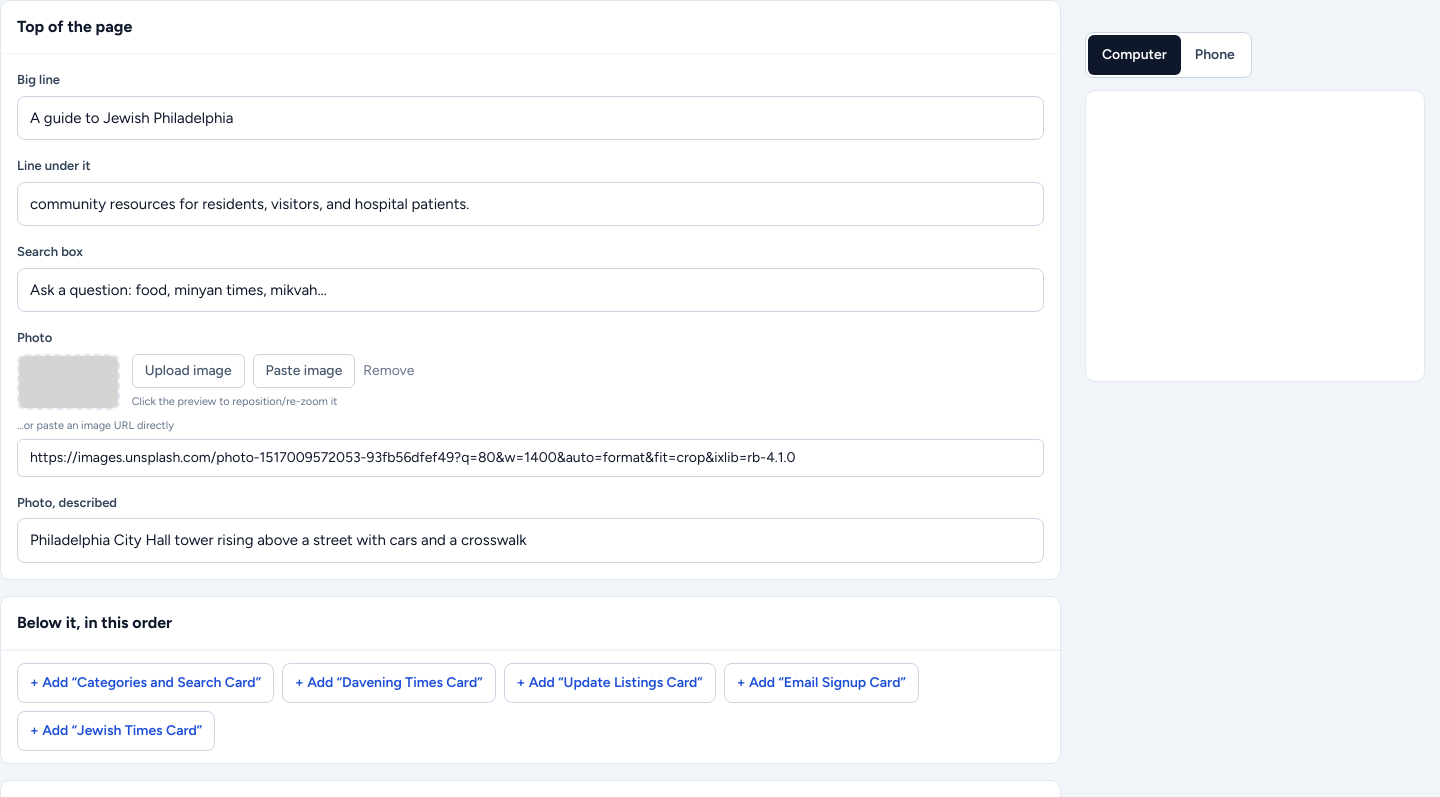
SiteSettingsEditor — Home page › has no Save bar until something changes, then says how much
Expected: the element named "Preview" is shown, left=1085, top=32, right=1425, bottom=382
Expected: the element "Save" is not shown
In the field labelled "Search box": (530, 290) left=17, top=268, right=1044, bottom=312, type "!"
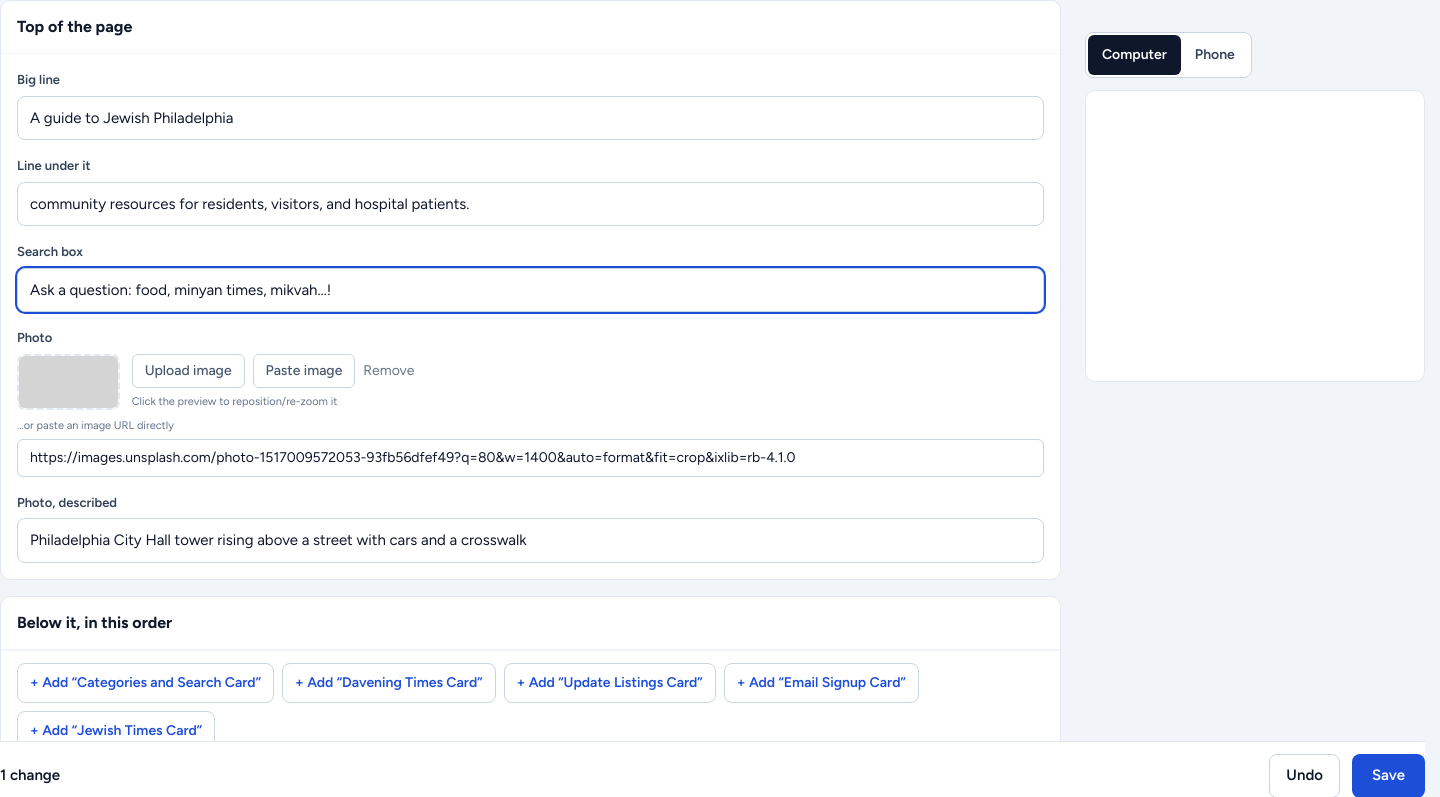
Result: the text "1 change" is shown at left=0, top=767, right=60, bottom=785
In the field labelled "Big line": (530, 118) left=17, top=96, right=1044, bottom=140, type "!"
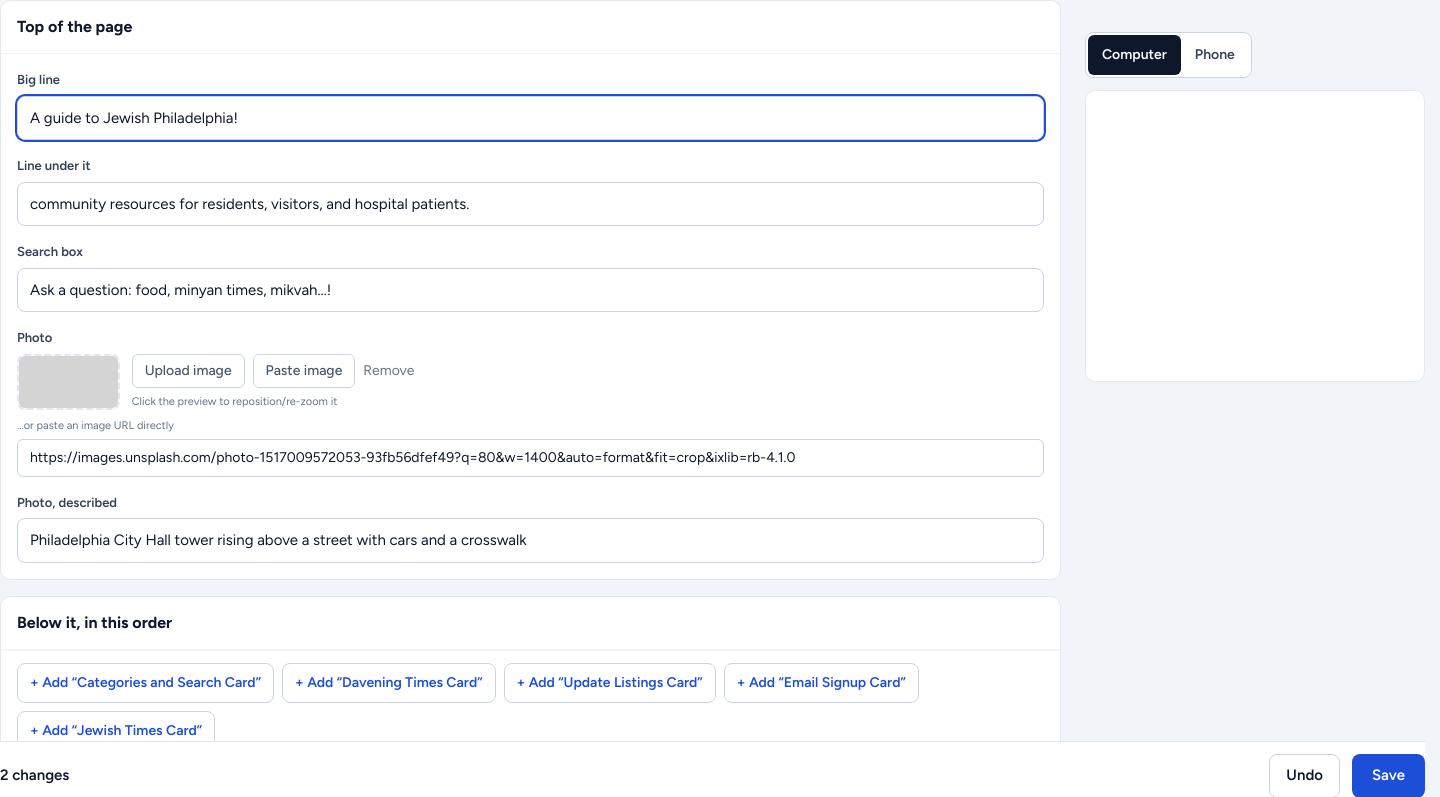
Result: the text "2 changes" is shown at left=0, top=767, right=69, bottom=785
